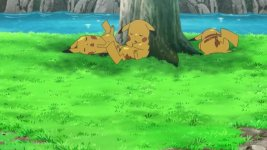pikachu: (65, 17, 120, 61), (188, 22, 246, 59), (117, 20, 155, 62)
